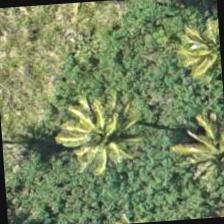Kelapa_Sawit: (52, 97, 148, 193), (166, 5, 223, 99), (171, 110, 223, 204)
